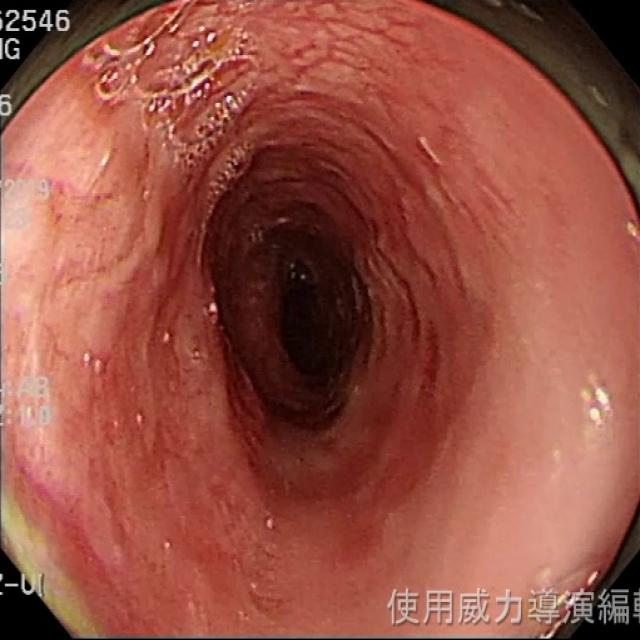A: (46, 134, 174, 359), (358, 184, 438, 376), (182, 269, 262, 460), (220, 523, 293, 619)
E: (230, 209, 369, 433)
S: (388, 588, 640, 629), (3, 8, 73, 35), (3, 375, 53, 402), (2, 179, 51, 204), (2, 403, 51, 428), (3, 572, 38, 599), (2, 204, 29, 231), (3, 36, 23, 63), (2, 95, 14, 118)
T: (85, 2, 256, 187)
U: (582, 369, 616, 434)
